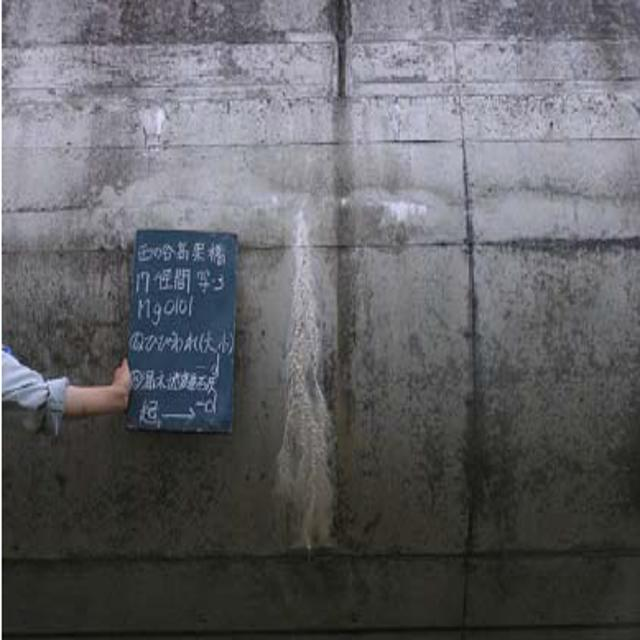freelime: (272, 227, 338, 540)
